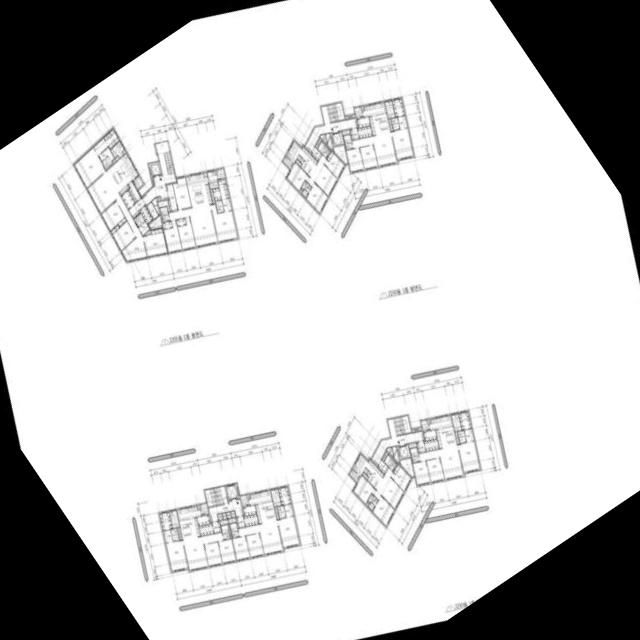background: (0, 0, 640, 640)
space_balconi: (349, 468, 360, 482), (282, 155, 293, 169), (133, 176, 143, 189), (354, 106, 363, 118), (420, 419, 429, 431), (216, 168, 225, 179)
space_bedroom: (73, 147, 105, 188), (210, 204, 238, 242), (110, 221, 135, 251), (101, 201, 126, 231), (277, 516, 300, 548), (143, 227, 167, 257), (352, 475, 376, 504), (165, 540, 187, 571), (458, 441, 480, 472), (391, 128, 413, 159), (286, 162, 309, 191), (306, 183, 328, 213), (372, 496, 394, 526), (172, 176, 191, 209), (177, 217, 195, 250), (164, 220, 182, 253), (324, 151, 345, 178), (390, 464, 411, 491), (204, 542, 222, 566), (412, 461, 430, 485), (426, 458, 444, 482), (217, 539, 235, 563), (232, 536, 250, 560), (346, 148, 363, 172), (246, 533, 263, 557), (360, 145, 377, 169), (162, 221, 172, 229), (176, 218, 186, 226)
space_dressroom: (103, 128, 119, 149), (278, 486, 291, 505), (458, 411, 471, 430), (159, 511, 172, 530), (392, 98, 404, 117), (217, 180, 228, 199), (212, 188, 221, 200)
space_elevator: (225, 484, 239, 500), (148, 162, 161, 177), (330, 132, 343, 146), (397, 445, 410, 459)
space_elevator_hall: (142, 142, 175, 205), (371, 431, 423, 465), (305, 118, 357, 152), (208, 499, 243, 521)
space_front: (128, 198, 145, 218), (166, 184, 177, 211), (139, 205, 153, 224), (121, 190, 134, 209), (243, 514, 258, 526), (199, 524, 213, 536), (377, 460, 388, 474), (311, 147, 321, 161), (349, 128, 359, 140), (416, 441, 425, 453), (212, 521, 221, 533), (236, 516, 245, 528)
space_kitchen: (106, 153, 138, 195), (286, 140, 317, 176), (352, 453, 383, 489), (248, 490, 276, 524), (429, 414, 457, 448), (185, 173, 212, 208), (363, 101, 390, 135), (176, 505, 201, 540), (197, 515, 210, 526), (243, 505, 256, 516)
space_living_room: (87, 171, 146, 262), (168, 204, 217, 247), (418, 445, 464, 479), (183, 532, 223, 571), (352, 132, 397, 166), (238, 521, 283, 555), (307, 154, 337, 196), (374, 468, 404, 509)
space_other: (128, 181, 141, 203), (400, 458, 414, 476), (333, 145, 347, 163), (110, 141, 124, 158), (207, 170, 218, 189), (270, 488, 281, 507), (384, 100, 395, 118), (147, 202, 158, 219), (357, 126, 372, 138), (169, 510, 179, 528), (424, 439, 439, 451), (451, 413, 461, 431), (149, 215, 162, 228), (356, 117, 370, 128), (423, 430, 436, 441), (325, 133, 333, 150), (391, 446, 399, 463), (151, 198, 159, 215), (158, 200, 169, 211), (386, 447, 393, 456), (315, 138, 321, 148), (210, 189, 214, 203), (320, 134, 326, 143), (382, 451, 387, 461), (112, 156, 119, 163), (455, 432, 459, 444), (177, 528, 181, 540), (274, 507, 278, 519), (388, 119, 392, 131), (295, 159, 301, 166), (362, 472, 368, 479), (345, 115, 355, 119), (228, 518, 236, 523), (411, 428, 421, 432), (219, 520, 227, 525), (408, 443, 416, 448), (342, 130, 350, 135), (144, 230, 150, 235), (217, 514, 222, 520), (230, 511, 235, 517), (226, 512, 231, 518), (222, 513, 227, 519), (151, 178, 154, 186), (203, 172, 207, 177), (122, 150, 126, 154), (299, 189, 302, 194), (247, 494, 250, 499), (365, 502, 368, 507), (156, 197, 160, 200), (361, 106, 364, 110), (428, 419, 430, 423)
space_outdoor_room: (199, 503, 208, 515), (240, 495, 248, 506)
space_staircase: (321, 103, 344, 124), (387, 416, 410, 437), (204, 486, 227, 506), (163, 152, 174, 175)
space_toilet: (98, 147, 114, 169), (93, 137, 107, 155), (457, 429, 474, 443), (390, 116, 407, 130), (317, 142, 329, 158), (384, 455, 396, 471), (301, 180, 311, 197), (367, 493, 377, 510), (343, 134, 353, 150), (409, 447, 419, 463), (138, 221, 149, 235), (159, 207, 169, 222), (229, 523, 239, 538), (221, 524, 230, 540), (221, 198, 231, 211), (163, 530, 173, 543), (283, 504, 293, 517), (134, 216, 141, 227), (137, 213, 144, 224), (170, 528, 178, 535), (216, 206, 224, 213), (215, 200, 222, 207), (278, 511, 285, 518), (172, 534, 179, 541), (277, 506, 284, 512)
